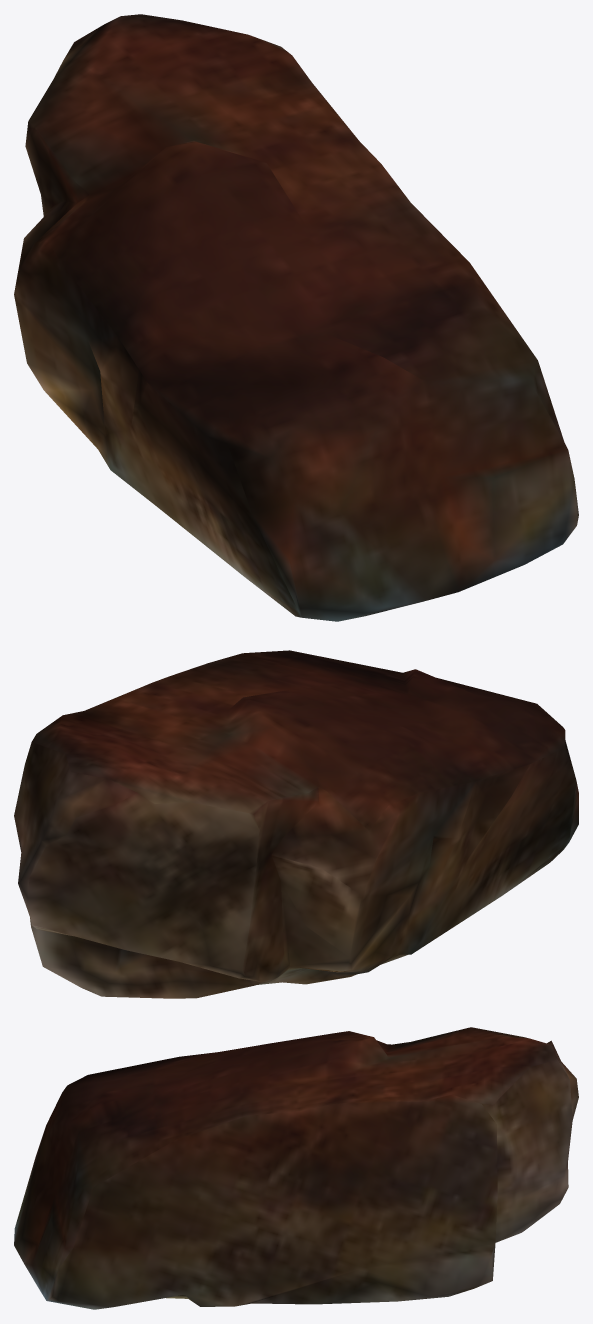
Rendered from rock_b.glb.
3 views of the same model, one above another, from view 1: azimuth 30°, elevation 25°; view 2: azimuth 150°, elevation 25°; view 3: azimuth 270°, elevation 25° (orthographic). The views are drawn at different scales.
Visible parts, largest first — view 1: rock_07; view 2: rock_07; view 3: rock_07.
Part boxes in pixels (x1,y1,x2,y2): rock_07: (14, 14, 578, 621); rock_07: (14, 650, 578, 998); rock_07: (14, 1027, 578, 1309).
Size of the model in its own units: 0.1667 by 0.1428 by 0.3194.
Materials: 1 (1 with a texture image).
